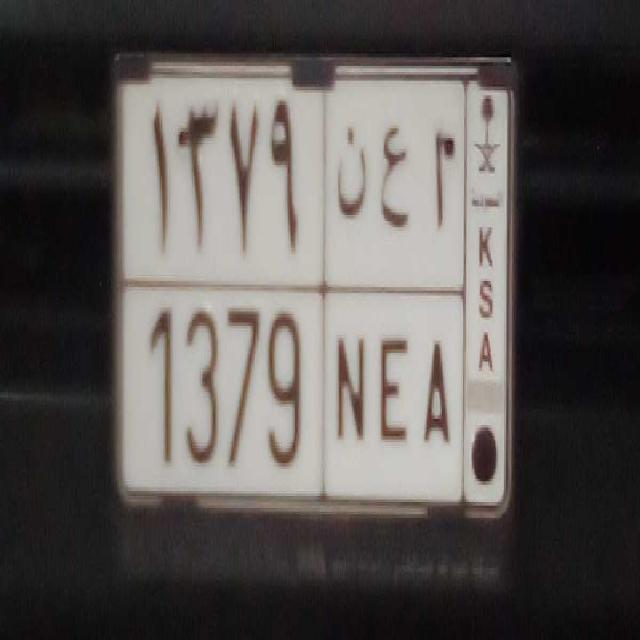license_plate: (117, 281, 465, 509)
